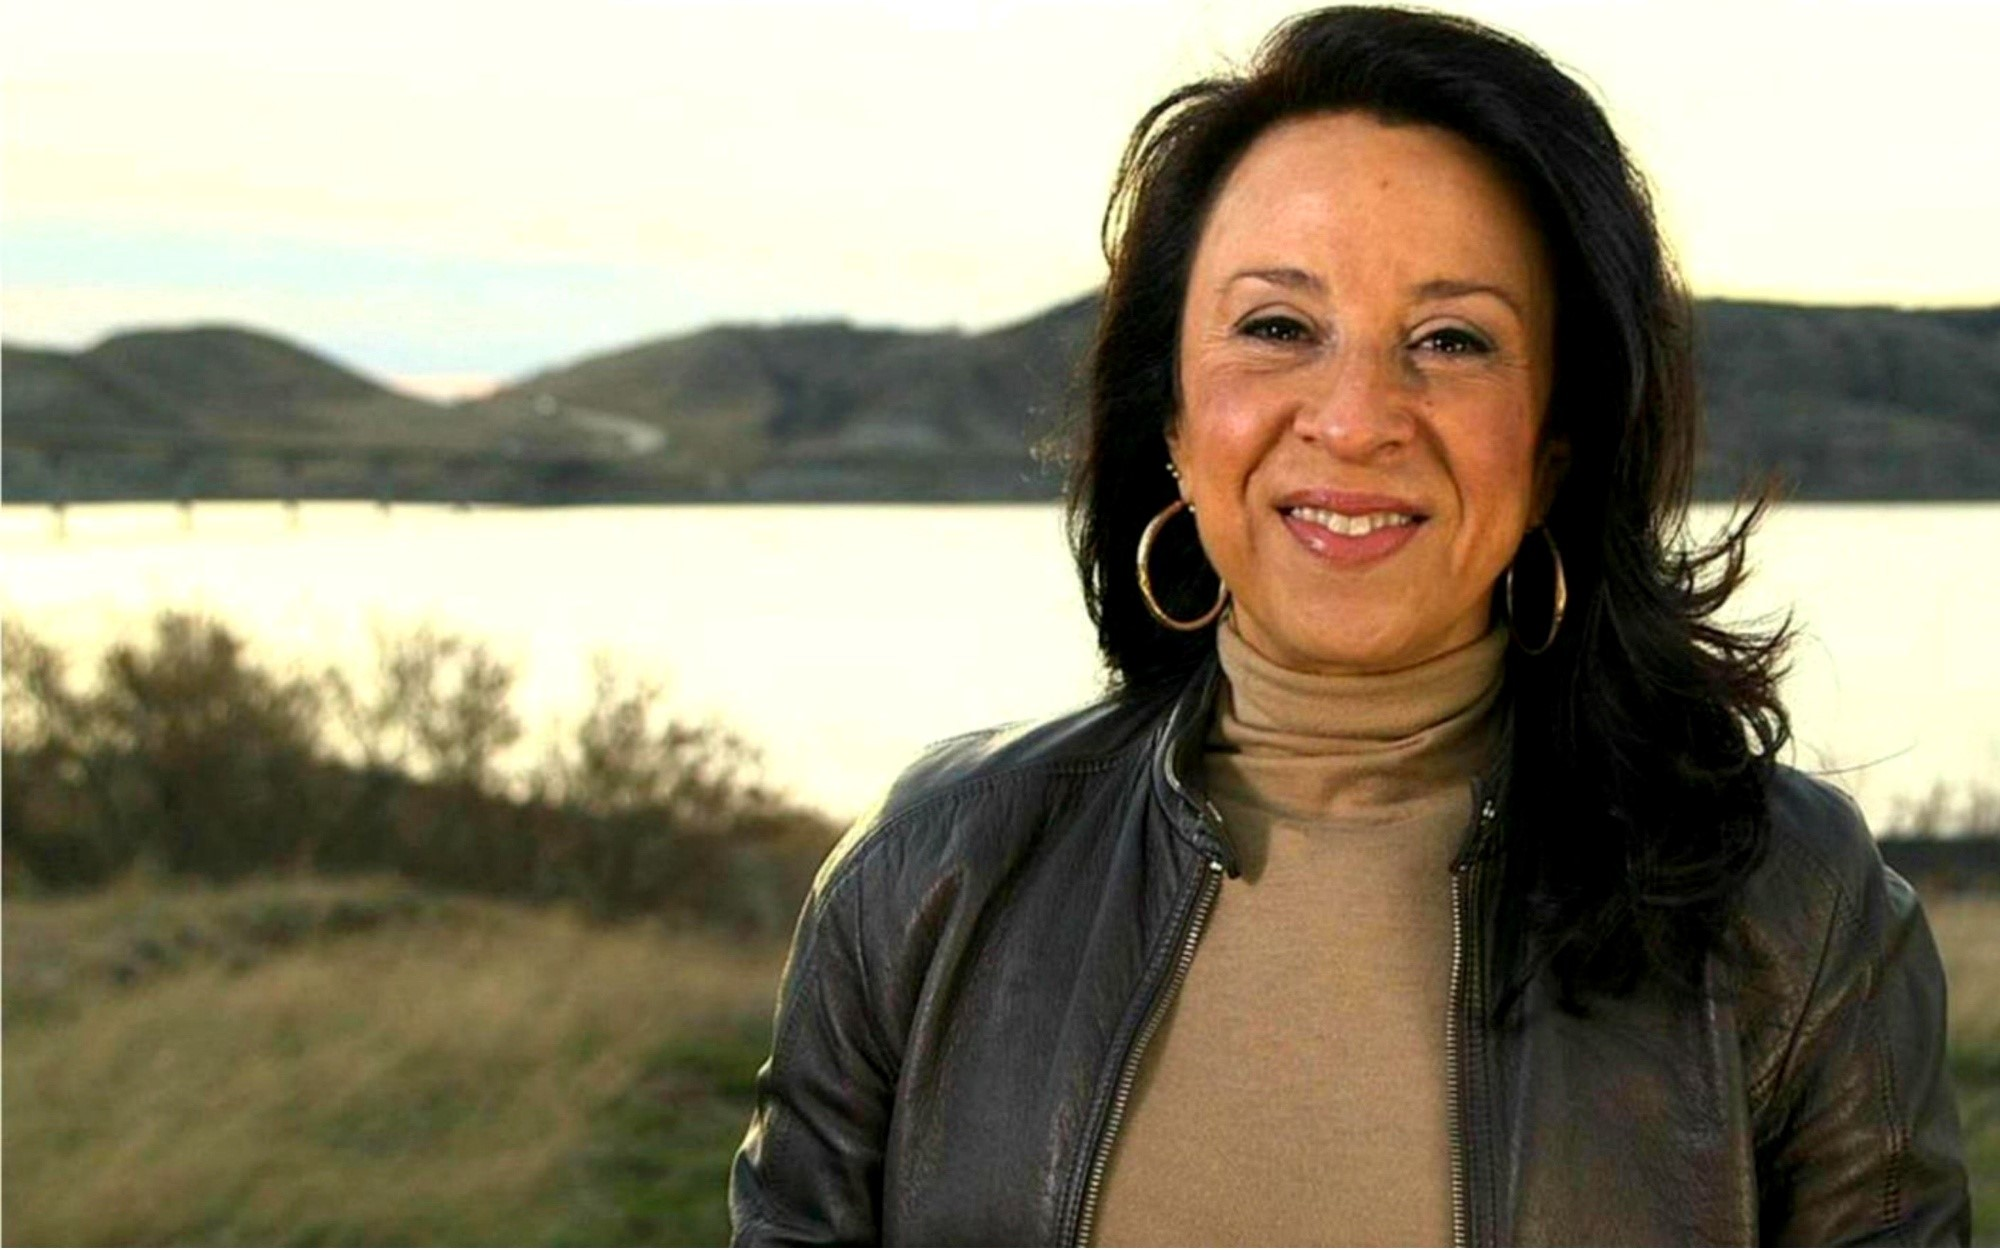face_no_mask: (1094, 16, 1691, 666)
